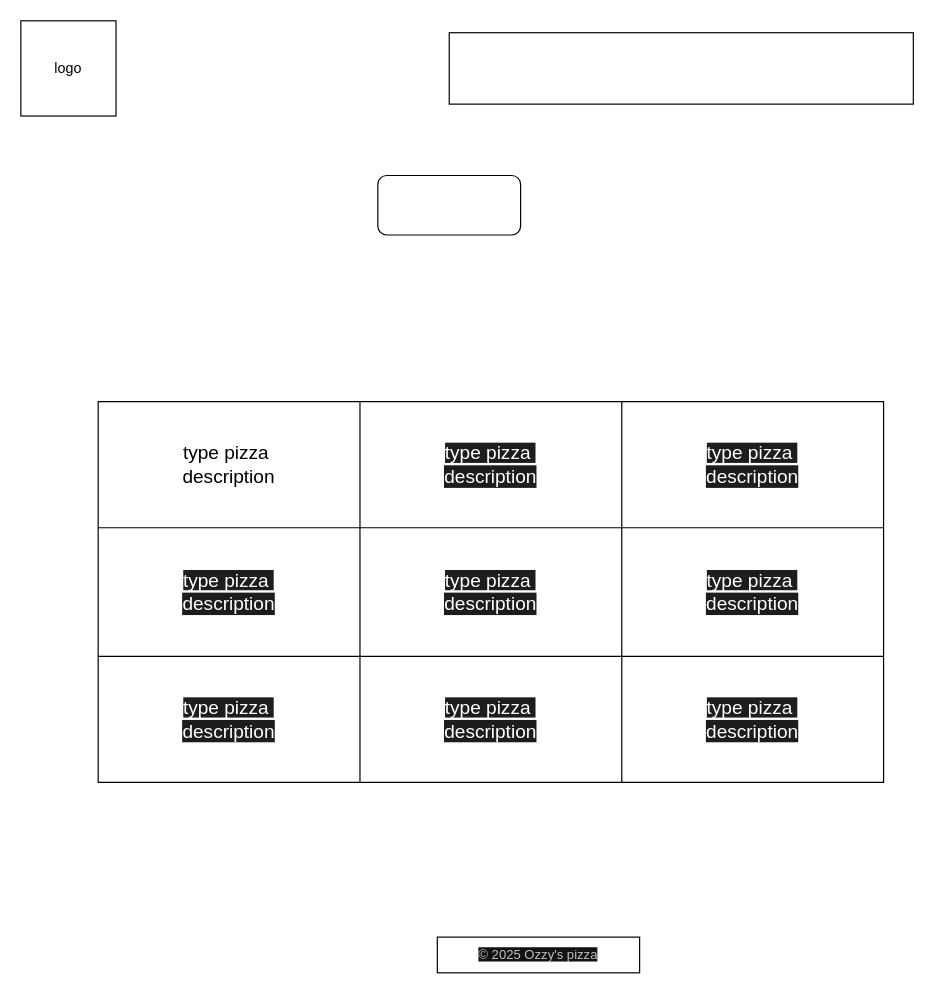
The diagram is 934 pixels wide and 994 high, and some of its shapes have lost their labels. The shapes that lost their labels are listed below. From the top down, each one's centre as x and y in pixels, then its label:
[680,68]: home/menu/create your own/contact
[449,204]: menu
